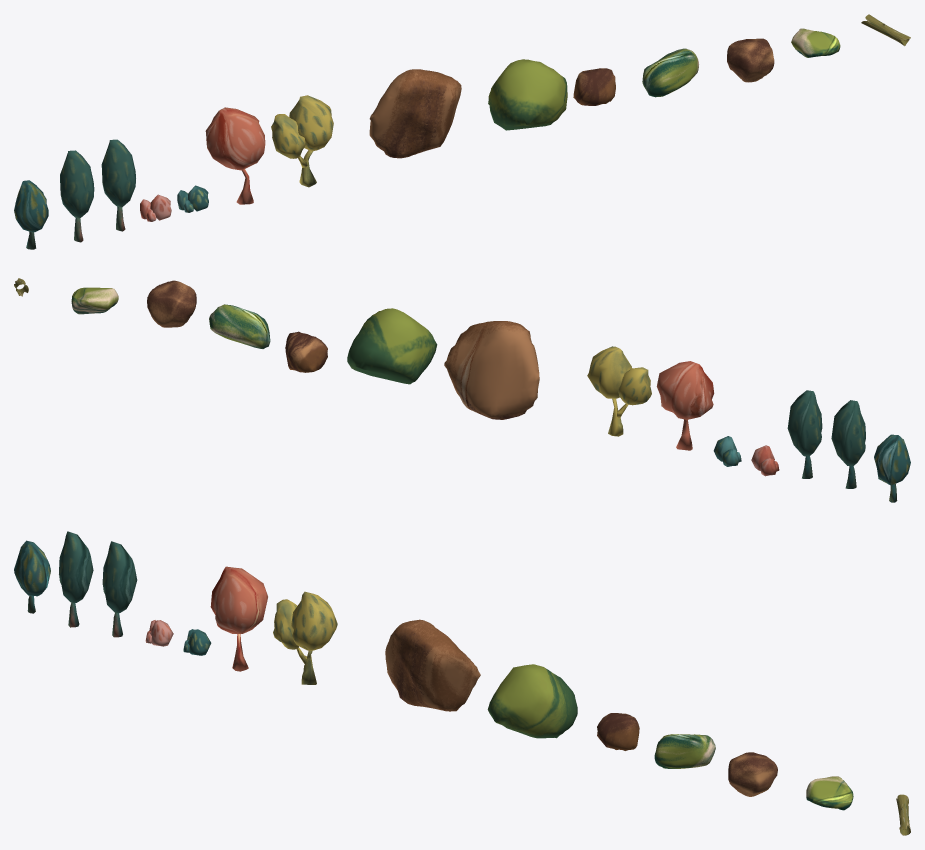
Rendered from vegetation.glb.
3 renders of one model, top to bottom at view 1: azimuth 30°, elevation 25°; view 2: azimuth 150°, elevation 25°; view 3: azimuth 330°, elevation 25°, orthographic.
Parts seen in each view (by area): view 1: VG-BigRock3.001, VG-LittleRock1.001, VG-Arbre2, VG-Arbre3, VG-Arbre1Rouge, VG-Arbre1Vert, VG-BigRock2.008, VG-BigRock1.002, VG-Arbre4, VG-LittleRock3, VG-LittleRock2.009, VG-BuissonVert (+2 smaller); view 2: VG-BigRock3.001, VG-LittleRock1.001, VG-Arbre3, VG-Arbre2, VG-Arbre1Vert, VG-Arbre1Rouge, VG-BigRock2.008, VG-BigRock1.002, VG-Arbre4, VG-LittleRock3, VG-LittleRock2.009, VG-BuissonVert (+1 smaller); view 3: VG-BigRock3.001, VG-LittleRock1.001, VG-Arbre2, VG-Arbre3, VG-Arbre1Vert, VG-Arbre1Rouge, VG-BigRock2.008, VG-BigRock1.002, VG-Arbre4, VG-LittleRock3, VG-LittleRock2.009.
Boxes of the visible parts, left/top/right/bottom form: VG-BigRock3.001: left=369, top=69, right=461, bottom=158; VG-LittleRock1.001: left=488, top=59, right=567, bottom=130; VG-Arbre2: left=205, top=107, right=265, bottom=204; VG-Arbre3: left=271, top=95, right=333, bottom=187; VG-Arbre1Rouge: left=60, top=150, right=94, bottom=242; VG-Arbre1Vert: left=101, top=139, right=135, bottom=231; VG-BigRock2.008: left=642, top=48, right=698, bottom=97; VG-BigRock1.002: left=727, top=38, right=774, bottom=82; VG-Arbre4: left=14, top=180, right=48, bottom=249; VG-LittleRock3: left=573, top=68, right=615, bottom=105; VG-LittleRock2.009: left=791, top=28, right=840, bottom=57; VG-BuissonVert: left=177, top=185, right=208, bottom=212; VG-BigRock3.001: left=444, top=321, right=539, bottom=419; VG-LittleRock1.001: left=347, top=308, right=437, bottom=384; VG-Arbre3: left=587, top=346, right=651, bottom=436; VG-Arbre2: left=656, top=361, right=714, bottom=450; VG-Arbre1Vert: left=787, top=390, right=822, bottom=478; VG-Arbre1Rouge: left=831, top=400, right=865, bottom=488; VG-BigRock2.008: left=209, top=304, right=270, bottom=348; VG-BigRock1.002: left=147, top=280, right=196, bottom=327; VG-Arbre4: left=874, top=434, right=910, bottom=502; VG-LittleRock3: left=285, top=331, right=327, bottom=372; VG-LittleRock2.009: left=71, top=287, right=118, bottom=314; VG-BuissonVert: left=713, top=436, right=741, bottom=466; VG-BigRock3.001: left=385, top=619, right=480, bottom=711; VG-LittleRock1.001: left=487, top=664, right=577, bottom=738; VG-Arbre2: left=210, top=566, right=267, bottom=671; VG-Arbre3: left=273, top=591, right=337, bottom=684; VG-Arbre1Vert: left=102, top=541, right=137, bottom=637; VG-Arbre1Rouge: left=59, top=531, right=93, bottom=627; VG-BigRock2.008: left=654, top=734, right=715, bottom=768; VG-BigRock1.002: left=728, top=752, right=777, bottom=796; VG-Arbre4: left=14, top=540, right=50, bottom=613; VG-LittleRock3: left=597, top=713, right=639, bottom=750; VG-LittleRock2.009: left=806, top=776, right=853, bottom=810.
Bounding box in the file's own units: 12.4 × 1.28 × 0.9927.
Materials: 14 (14 with a texture image).
